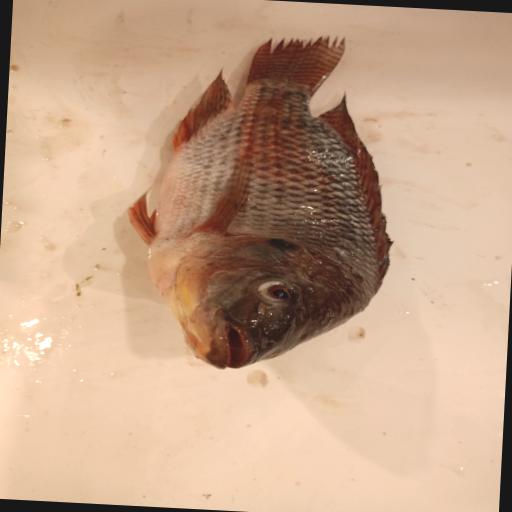Tilapia: (119, 24, 405, 379)
